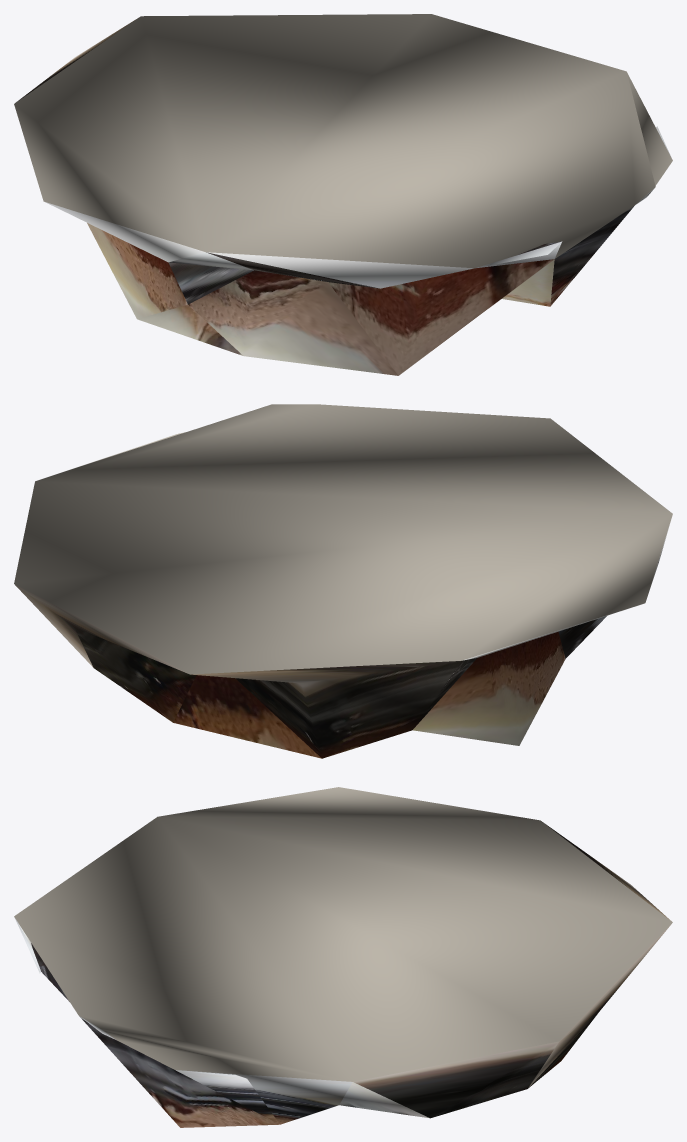
The model's file is cake_80.obj.
The picture shows the model from 3 angles, top to bottom: view 1: azimuth 30°, elevation 25°; view 2: azimuth 150°, elevation 25°; view 3: azimuth 270°, elevation 25°; orthographic projection. The views are drawn at different scales.
Bounding box in the file's own units: 0.181 × 0.0469 × 0.1825.
1 material, 1 textured.
